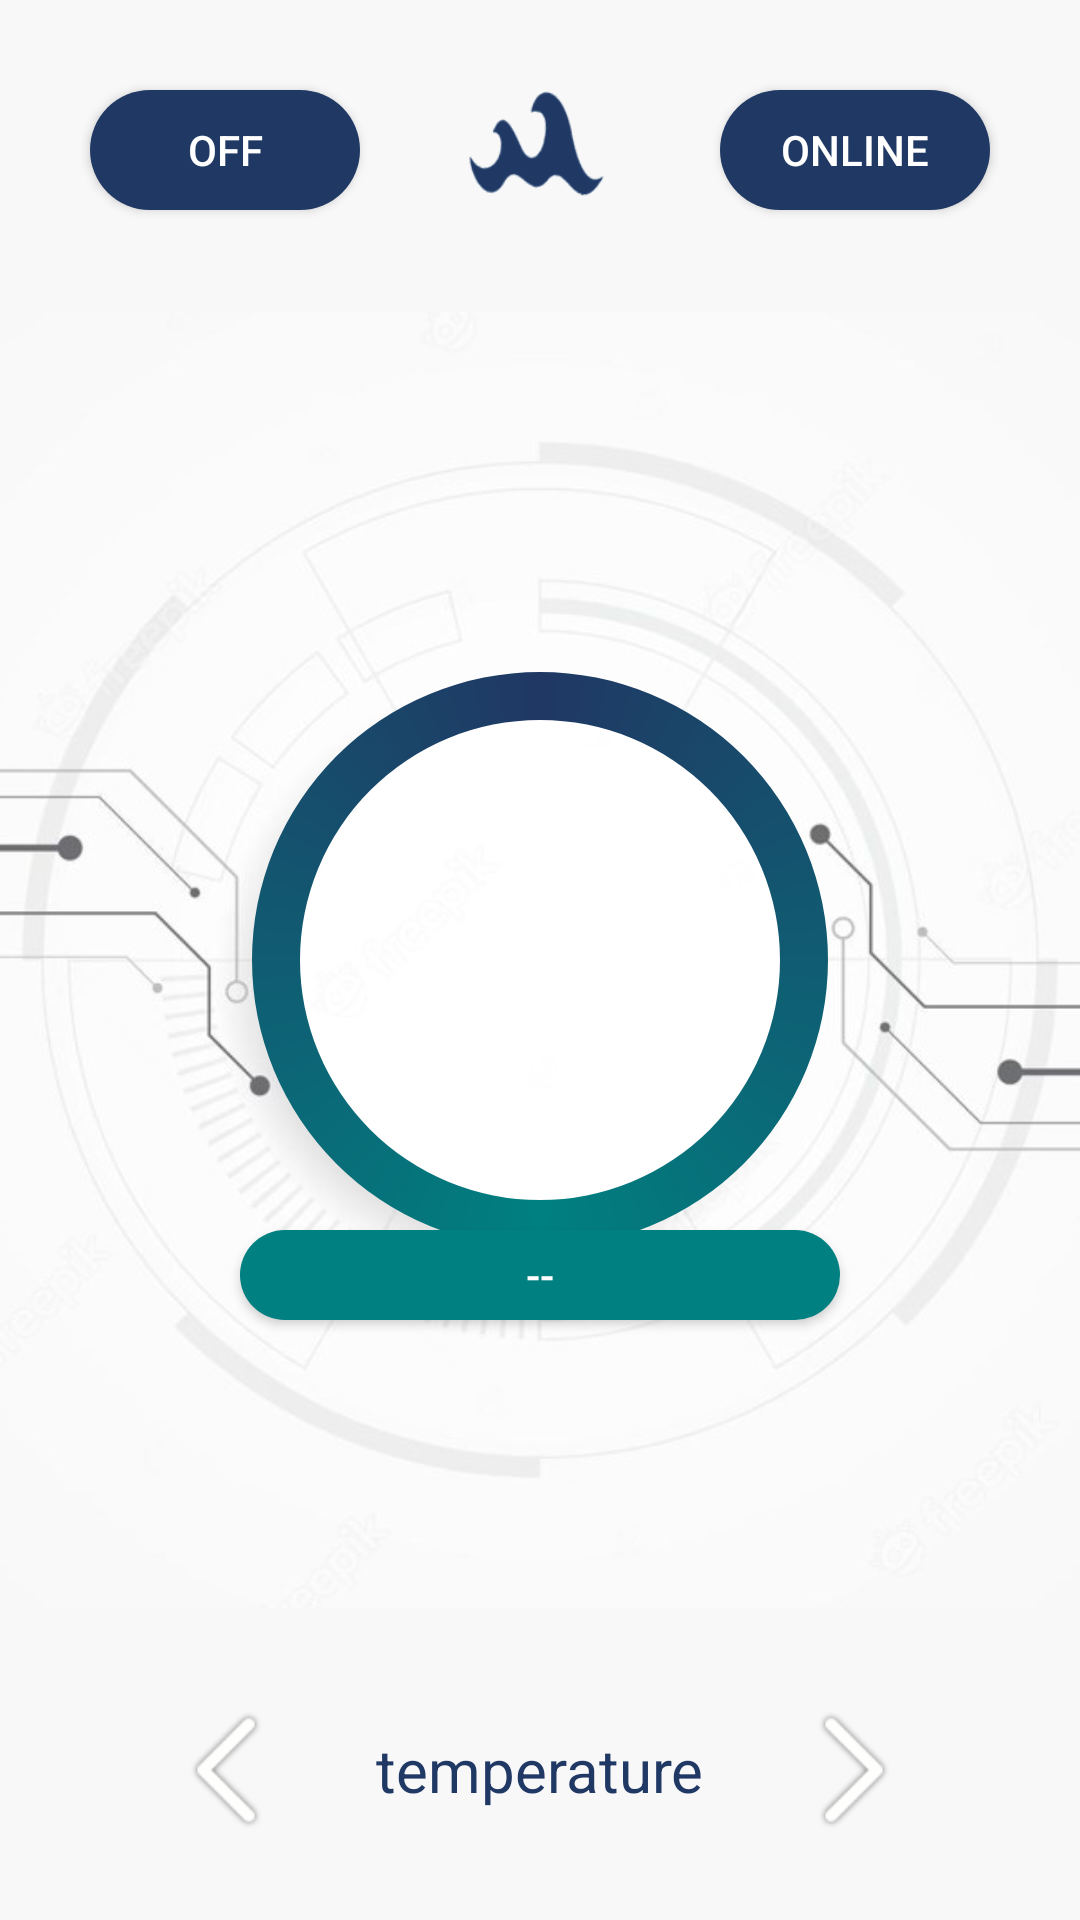

Named icons in this screenshot (1080px×1920px) and their centers, [x,y]:
arrow left: [226,1770]
arrow right: [854,1770]
